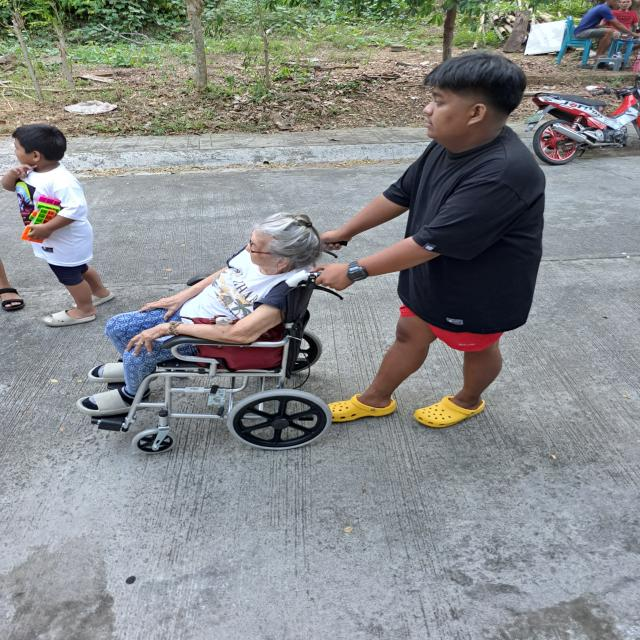wheelchairs: (83, 240, 346, 456)
